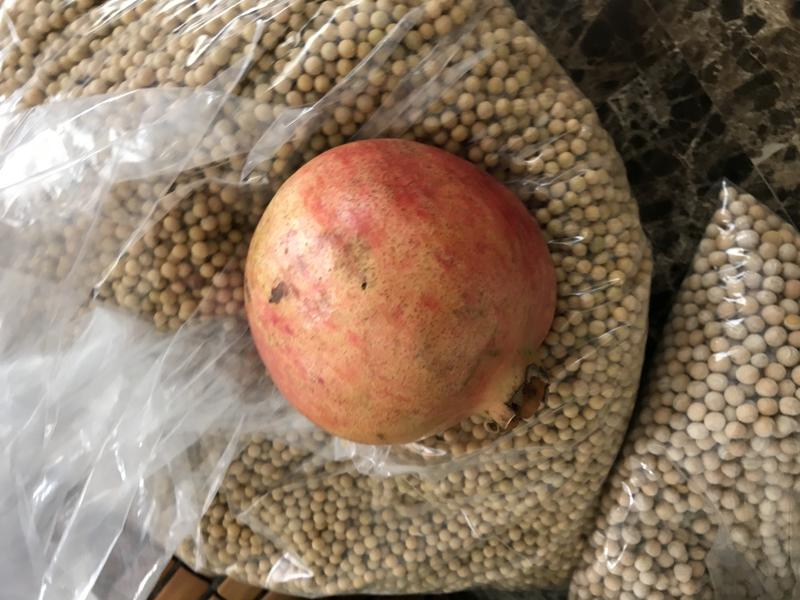pomegranate: (231, 129, 572, 461)
